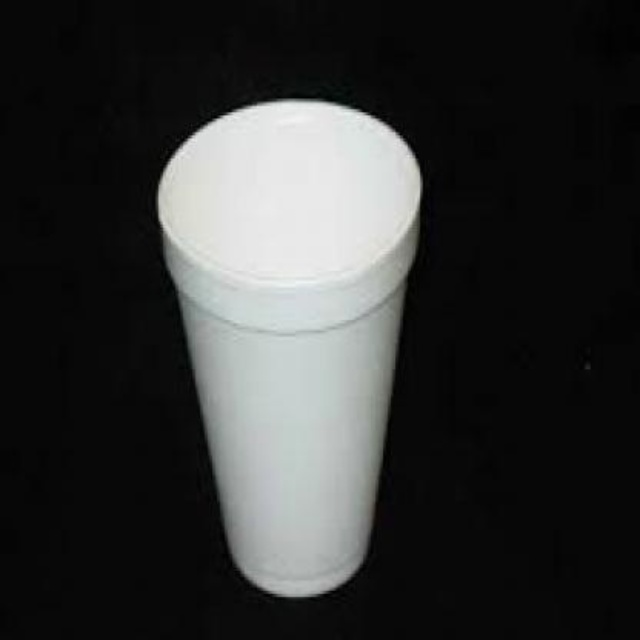trash: (158, 100, 420, 595)
